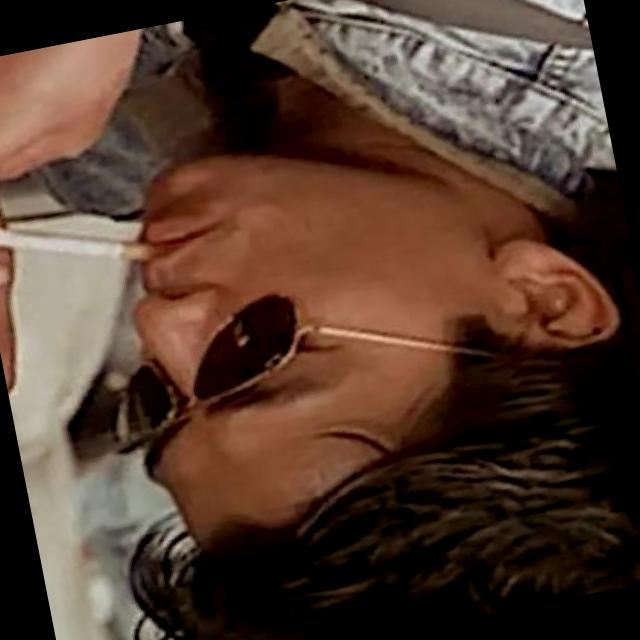smoke: (0, 166, 199, 332)
